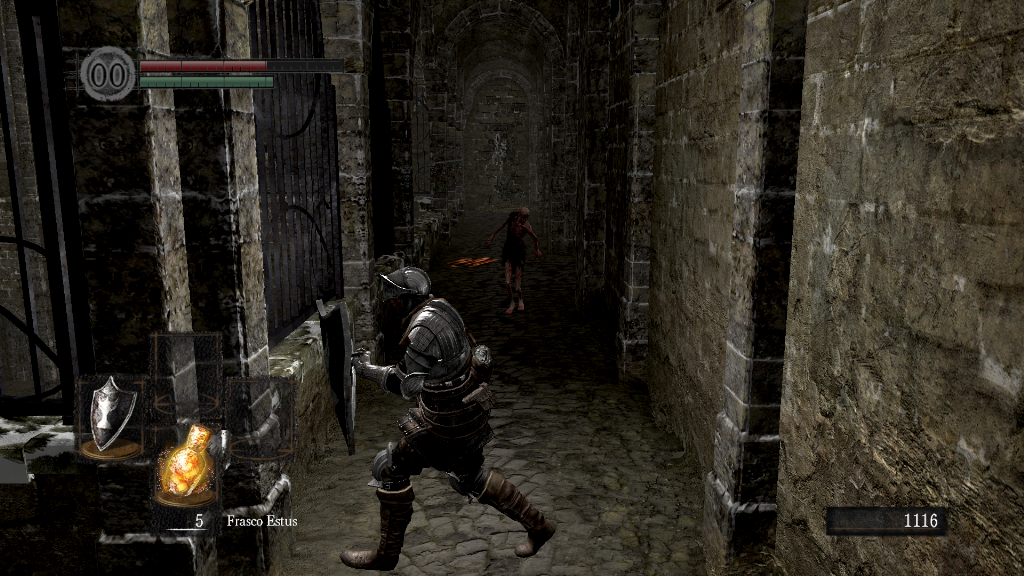health: (138, 58, 343, 71)
hollow: (486, 206, 546, 315)
humanity: (80, 45, 136, 102)
player: (312, 267, 558, 571)
souls: (825, 506, 945, 536)
stamina: (138, 74, 274, 88)
